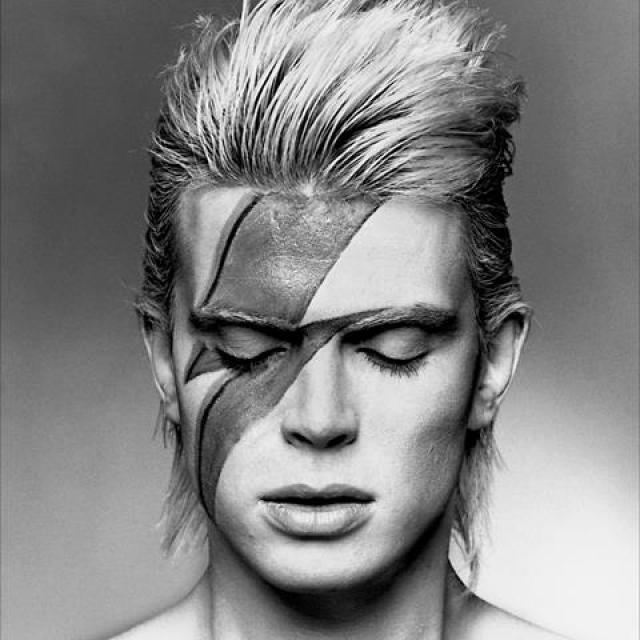human: (105, 2, 562, 640)
